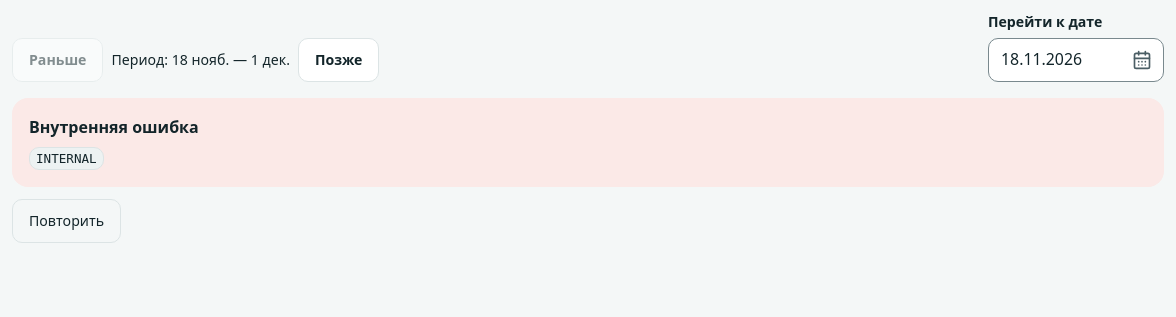
Test: SlotPicker › should search again when the visitor retries after a failure
Click the button "Повторить".
click(66, 221)  # box [12, 199, 121, 243]
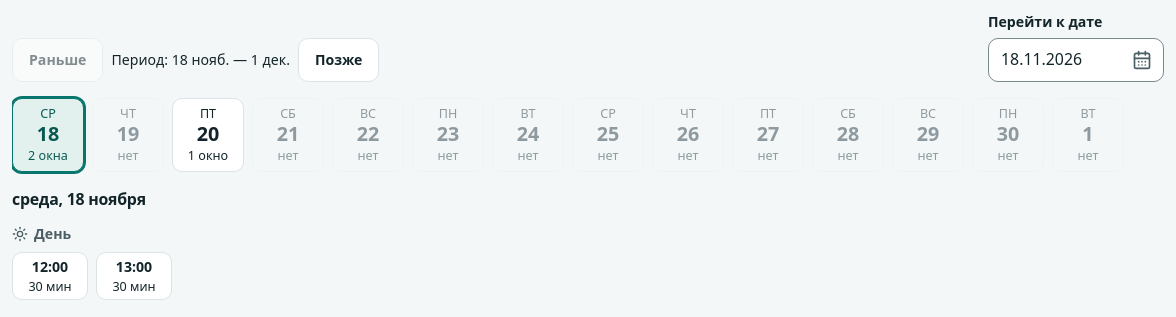
expect the button with test id "slot-s-1" is shown: met, box [12, 252, 88, 300]
